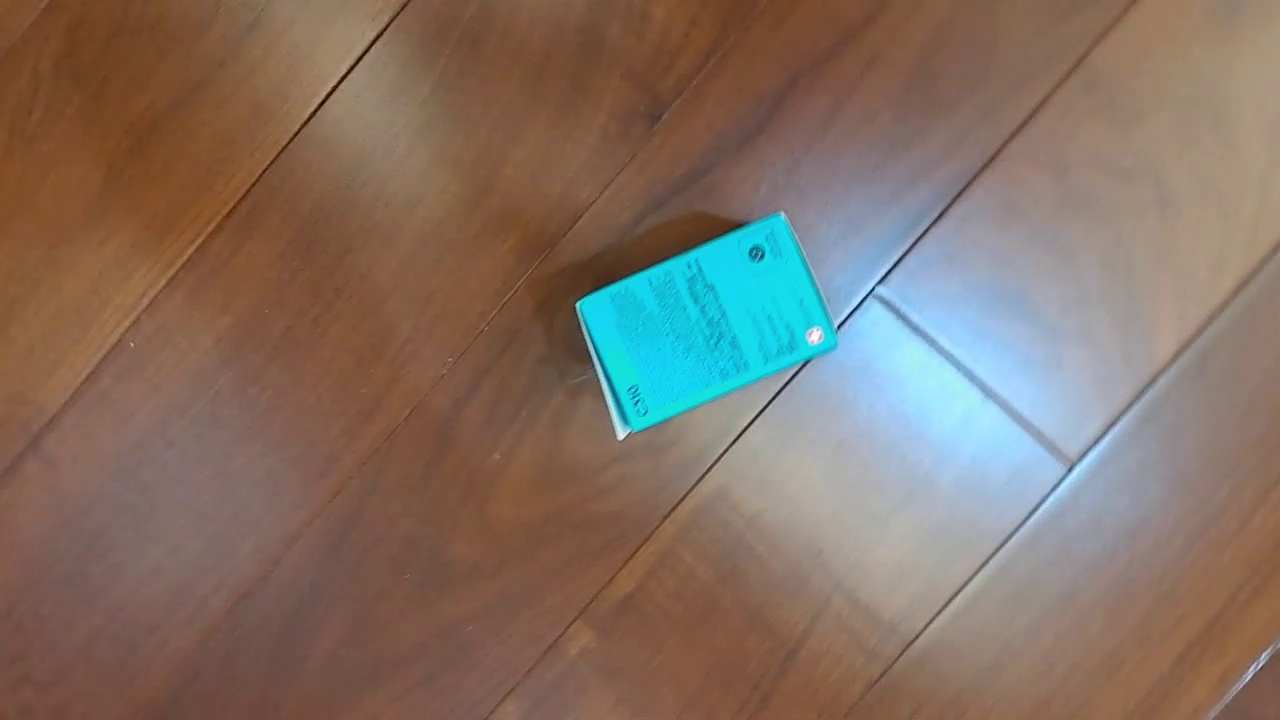webcam: (574, 209, 839, 442)
